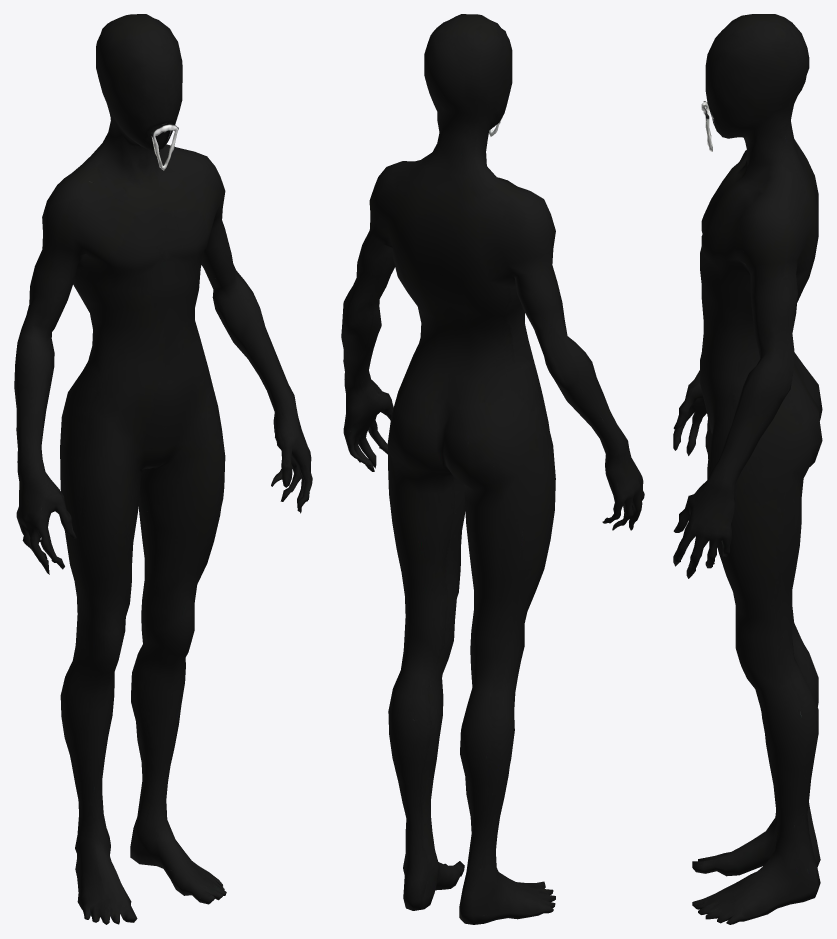
File: selected.glb
The picture shows the model from 3 angles, left to right: view 1: azimuth 30°, elevation 25°; view 2: azimuth 150°, elevation 25°; view 3: azimuth 270°, elevation 25°; orthographic projection.
Parts seen in each view (by area): view 1: tripo_node_587fb5ca-27b9-433b-a7ee-85bf24764c59; view 2: tripo_node_587fb5ca-27b9-433b-a7ee-85bf24764c59; view 3: tripo_node_587fb5ca-27b9-433b-a7ee-85bf24764c59.
Part boxes in pixels (left/top/right/bottom): tripo_node_587fb5ca-27b9-433b-a7ee-85bf24764c59: left=14, top=14, right=312, bottom=924; tripo_node_587fb5ca-27b9-433b-a7ee-85bf24764c59: left=341, top=14, right=644, bottom=924; tripo_node_587fb5ca-27b9-433b-a7ee-85bf24764c59: left=673, top=14, right=822, bottom=924.
Bounding box in the file's own units: 0.3379 × 0.998 × 0.1543.
Materials: 1 (1 with a texture image).
